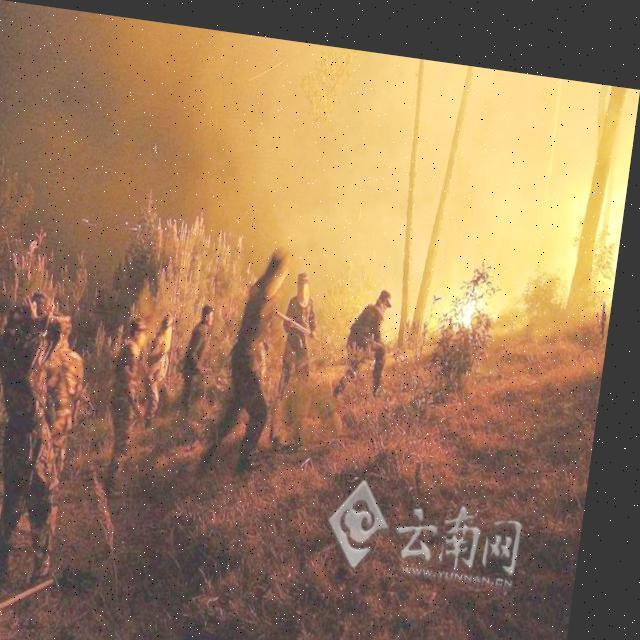Fire: (456, 260, 505, 325)
